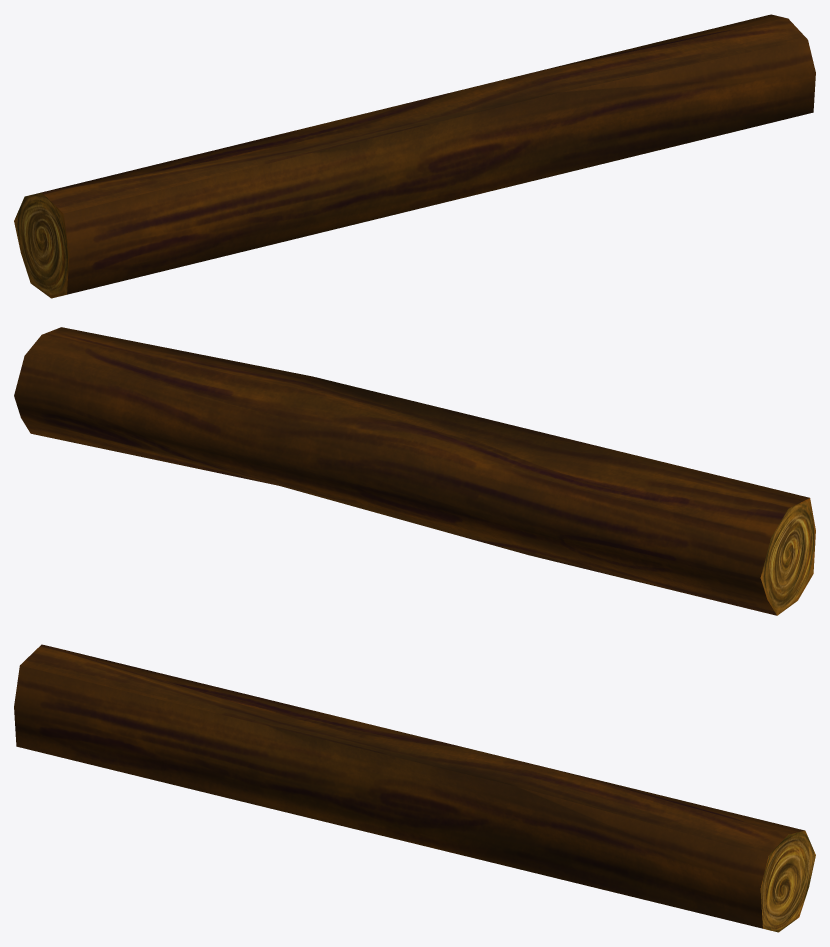
File: Log.FBX
3 views of the same model, one above another, from view 1: azimuth 30°, elevation 25°; view 2: azimuth 150°, elevation 25°; view 3: azimuth 330°, elevation 25° (orthographic).
Visible parts, largest first — view 1: Cylinder008; view 2: Cylinder008; view 3: Cylinder008.
Part boxes in pixels (bbox=[...]): Cylinder008: bbox=[14, 14, 815, 298]; Cylinder008: bbox=[14, 327, 815, 615]; Cylinder008: bbox=[14, 644, 815, 932].
Bounding box in the file's own units: 413 × 52.37 × 53.18.
1 material, 1 textured.
